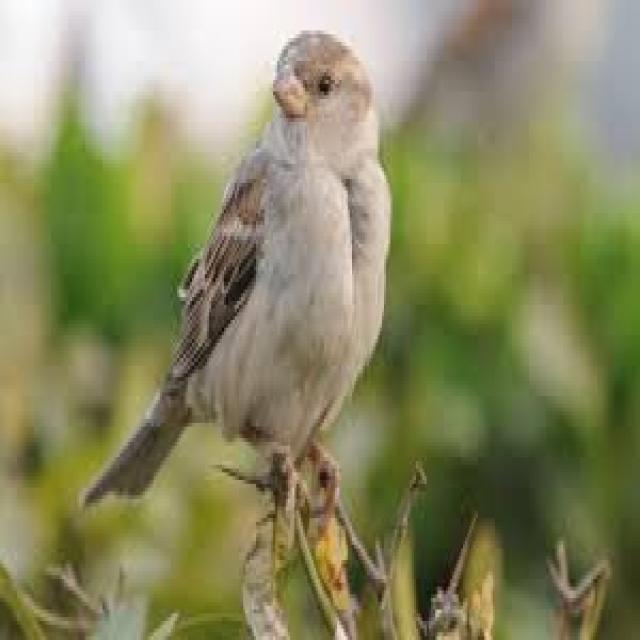Sparrow: (82, 18, 392, 531)
